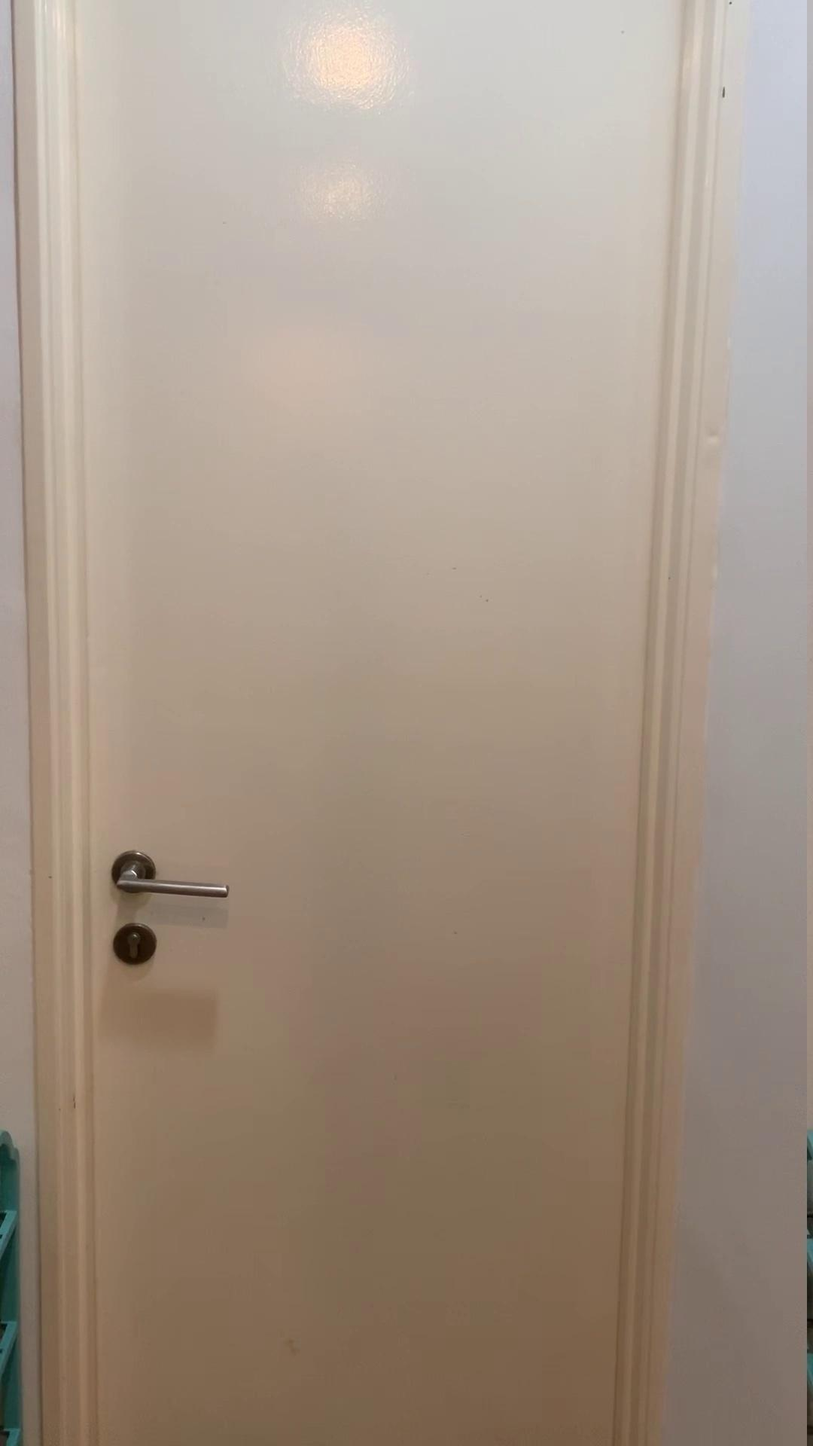door: (50, 13, 721, 1446)
